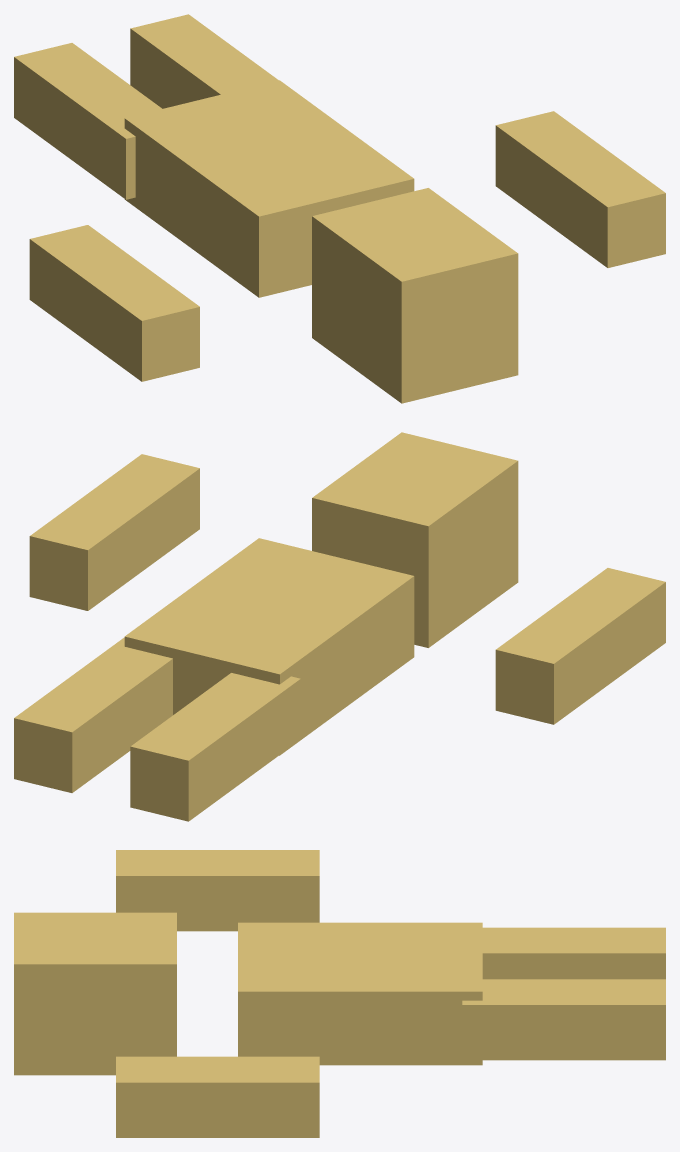
The model's file is pharaoh_hero.glb.
3 renders of one model, top to bottom at view 1: azimuth 30°, elevation 25°; view 2: azimuth 150°, elevation 25°; view 3: azimuth 270°, elevation 25°, orthographic. The views are drawn at different scales.
Parts seen in each view (by area): view 1: pharaoh_hero; view 2: pharaoh_hero; view 3: pharaoh_hero.
Boxes of the visible parts, <box> form: pharaoh_hero: <box>14,14,665,403</box>; pharaoh_hero: <box>14,432,665,821</box>; pharaoh_hero: <box>14,850,665,1137</box>.
Size of the model in its own units: 2.7 by 0.6 by 3.2.
